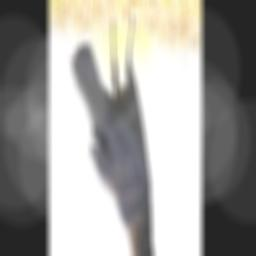Crow: (71, 13, 161, 256)
